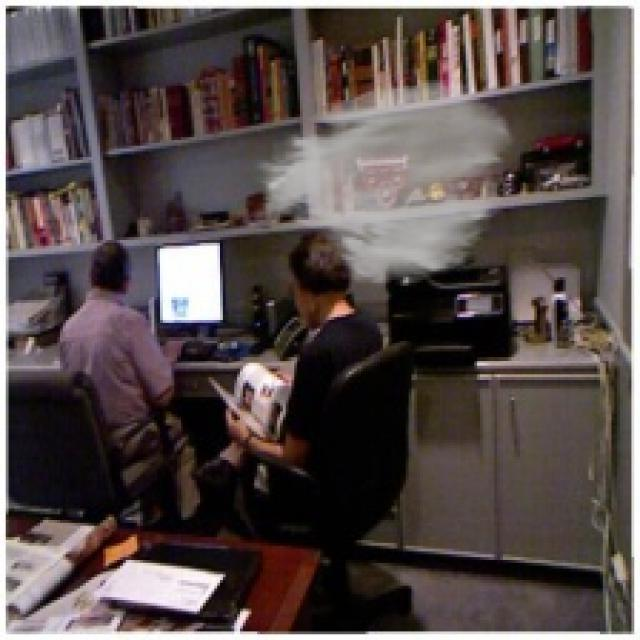Smoke: (245, 77, 518, 289)
